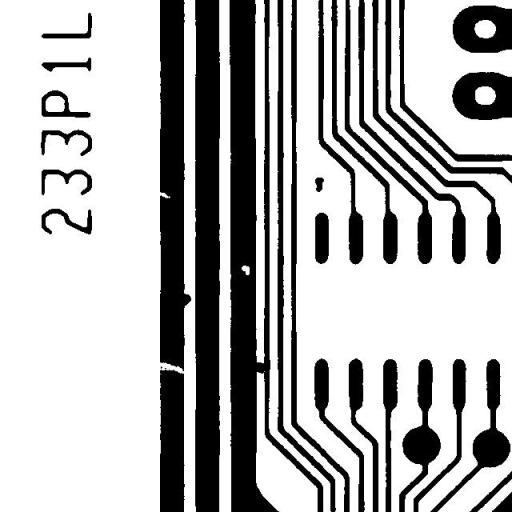copper: (307, 170, 331, 199)
mousebite: (147, 184, 178, 206)
open: (150, 354, 192, 381)
pin-hole: (234, 258, 256, 282)
short: (247, 354, 274, 381)
spur: (172, 286, 198, 312)
